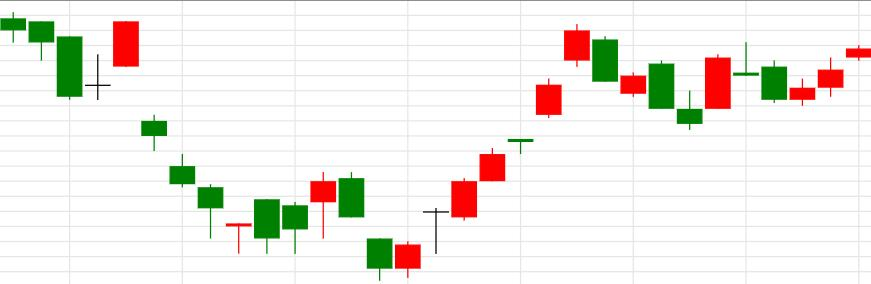morning_star_rise: (564, 23, 731, 130)
